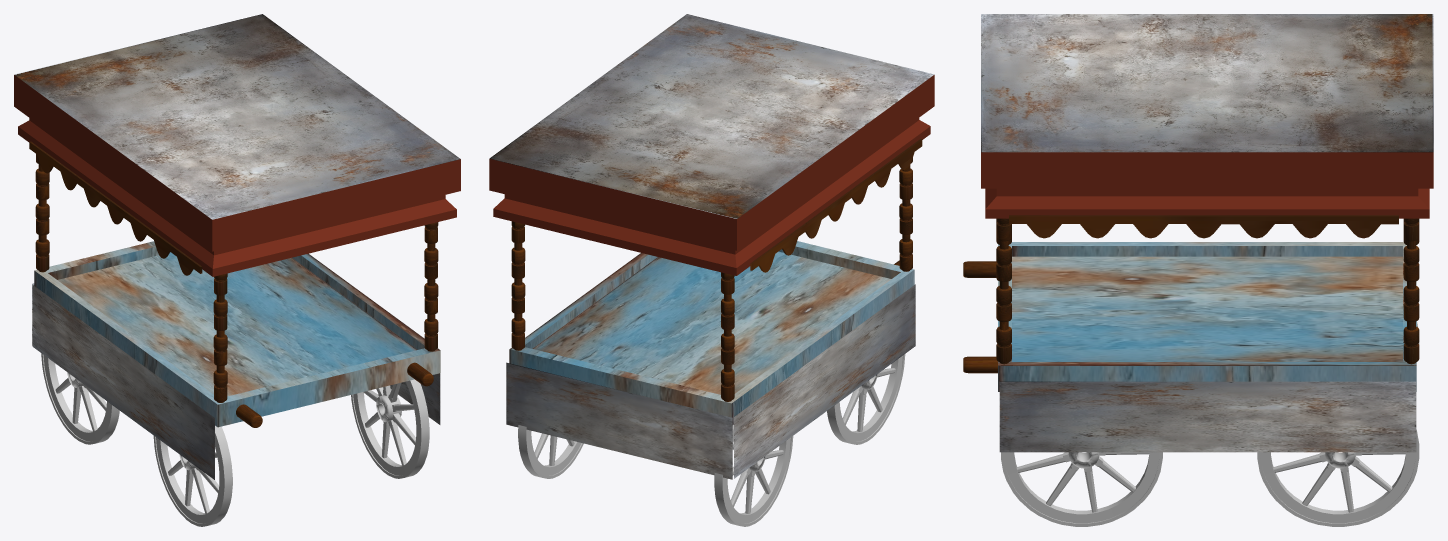
Rendered from thela.fbx.
3 renders of one model, left to right at view 1: azimuth 30°, elevation 25°; view 2: azimuth 150°, elevation 25°; view 3: azimuth 270°, elevation 25°, orthographic. The views are drawn at different scales.
Visible parts, largest first — view 1: Cube.001, Cube, Plane.001, polySurface2.001, polySurface2.003, Cube.002, polySurface2.002, Cylinder, Cylinder.001, Cylinder.003, Plane, Cylinder.004; view 2: Cube.001, Cube, Plane.002, Plane.001, Cube.002, polySurface2.002, polySurface2.003, Cylinder.002, Cylinder.003, polySurface2, Cylinder; view 3: Cube.001, Cube, Plane, Cube.002, polySurface2, polySurface2.001, Cylinder.002, Cylinder.001, Cylinder.004.
Boxes of the visible parts, x1=… form: Cube.001: x1=14, y1=14, x2=460, y2=276; Cube: x1=34, y1=241, x2=440, y2=427; Plane.001: x1=32, y1=285, x2=214, y2=479; polySurface2.001: x1=351, y1=379, x2=429, y2=478; polySurface2.003: x1=153, y1=425, x2=232, y2=526; Cube.002: x1=29, y1=141, x2=202, y2=275; polySurface2.002: x1=41, y1=353, x2=119, y2=444; Cylinder: x1=213, y1=273, x2=227, y2=402; Cylinder.001: x1=424, y1=222, x2=438, y2=351; Cylinder.003: x1=35, y1=154, x2=49, y2=272; Plane: x1=390, y1=373, x2=440, y2=424; Cylinder.004: x1=236, y1=362, x2=433, y2=427; Cube.001: x1=489, y1=14, x2=934, y2=275; Cube: x1=509, y1=241, x2=914, y2=424; Plane.002: x1=506, y1=362, x2=732, y2=479; Plane.001: x1=734, y1=284, x2=915, y2=478; Cube.002: x1=750, y1=139, x2=922, y2=272; polySurface2.002: x1=714, y1=424, x2=793, y2=526; polySurface2.003: x1=827, y1=354, x2=905, y2=444; Cylinder.002: x1=511, y1=221, x2=525, y2=350; Cylinder.003: x1=721, y1=272, x2=734, y2=401; polySurface2: x1=518, y1=425, x2=583, y2=478; Cylinder: x1=899, y1=158, x2=912, y2=271; Cube.001: x1=981, y1=14, x2=1433, y2=218; Cube: x1=998, y1=242, x2=1416, y2=391; Plane: x1=999, y1=381, x2=1416, y2=452; Cube.002: x1=1009, y1=215, x2=1398, y2=238; polySurface2: x1=1257, y1=429, x2=1419, y2=526; polySurface2.001: x1=1001, y1=452, x2=1162, y2=526; Cylinder.002: x1=1403, y1=218, x2=1419, y2=364; Cylinder.001: x1=996, y1=218, x2=1011, y2=364; Cylinder.004: x1=963, y1=261, x2=997, y2=373.
Size of the model in its own units: 460 by 599 by 660.
